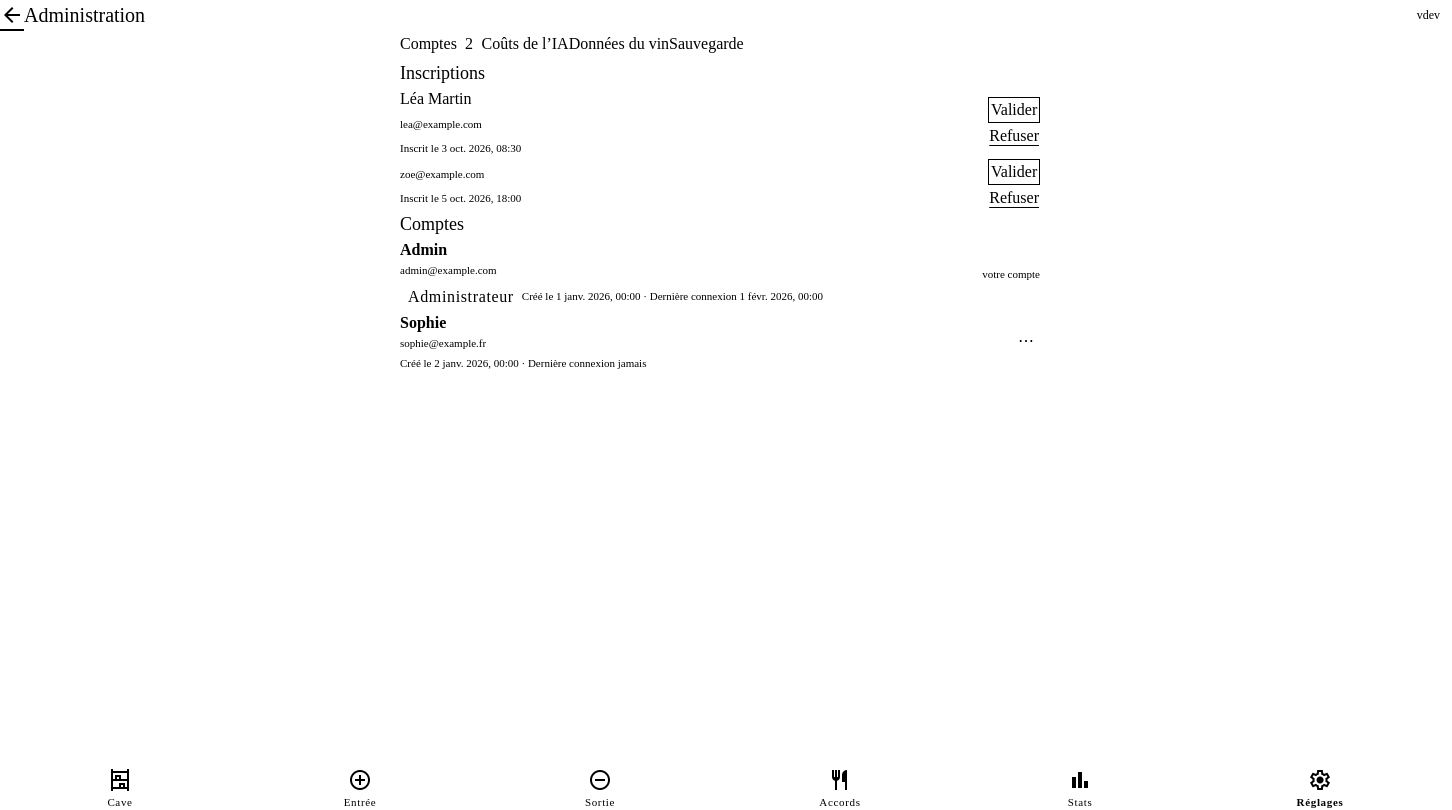
Test: Inscriptions › affiche tel quel le refus de l’api
The width and height of the screenshot is (1452, 810).
expect the text "lea@example.com" is shown: met, box [400,118,482,130]
Click the button "Valider" in the row of "lea@example.com": (1014, 110) [988,97,1040,123]
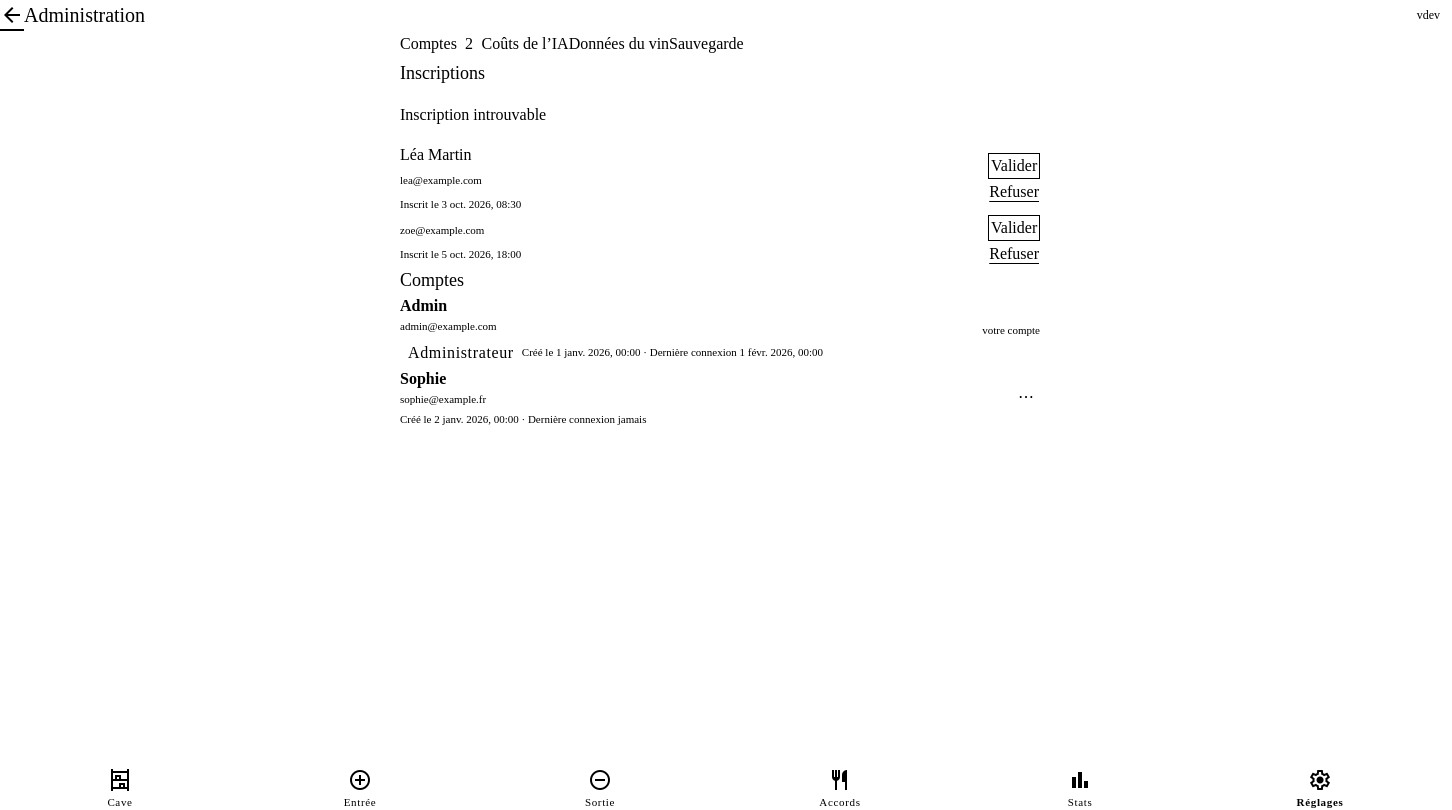
expect the message reads "Inscription introuvable": met, box [400,106,546,123]
